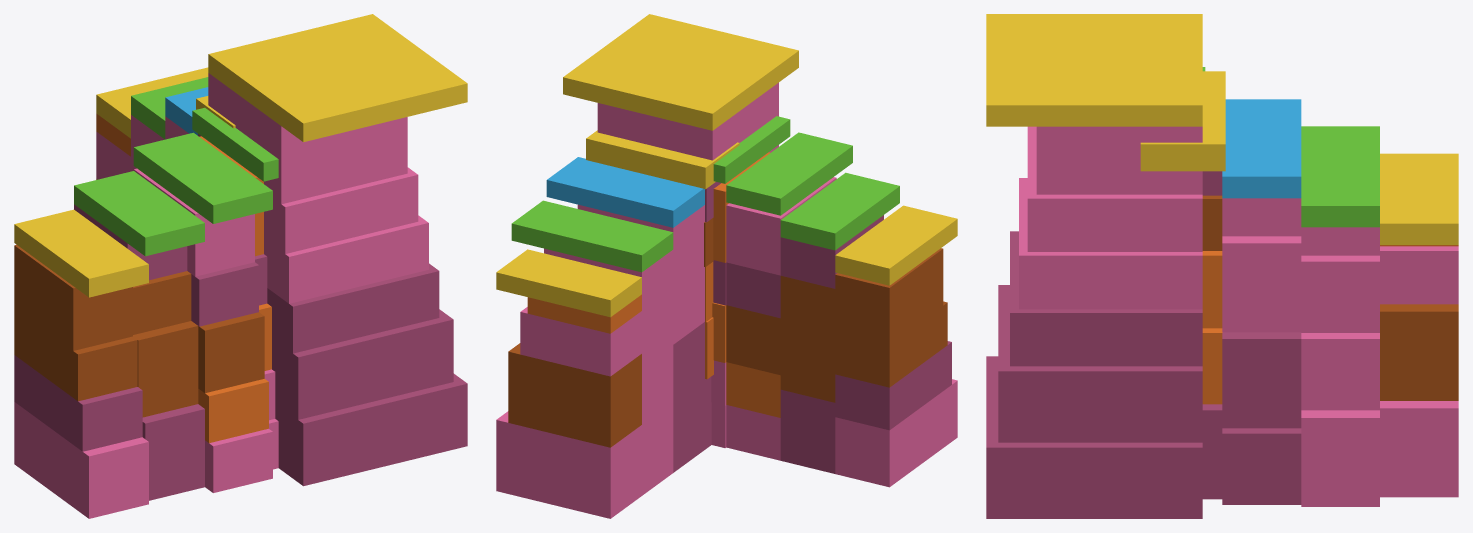
The model's file is DesertCornerRock.obj.
3 views of the same model, side by side, from view 1: azimuth 30°, elevation 25°; view 2: azimuth 150°, elevation 25°; view 3: azimuth 270°, elevation 25° (orthographic). The views are drawn at different scales.
Visible parts, largest first — view 1: DesertCornerRock; view 2: DesertCornerRock; view 3: DesertCornerRock.
Boxes of the visible parts, <box> form: DesertCornerRock: <box>14,14,467,518</box>; DesertCornerRock: <box>496,14,957,518</box>; DesertCornerRock: <box>986,14,1458,518</box>.
Size of the model in its own units: 12 by 11.6 by 12.
